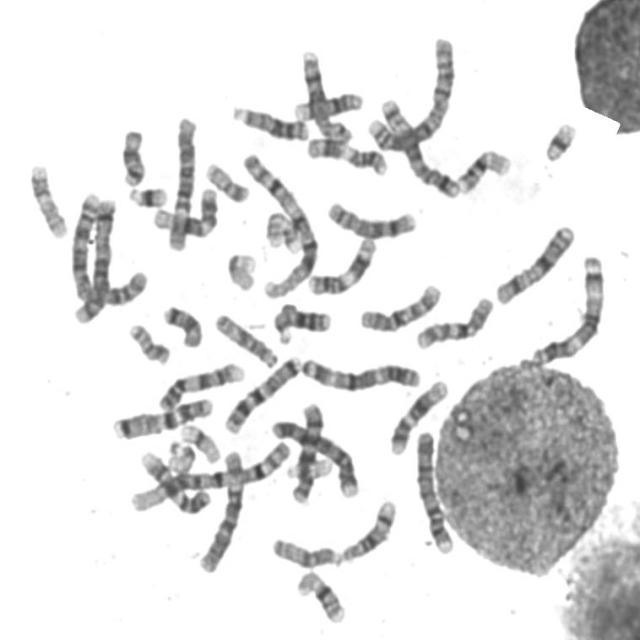A1: (124, 436, 296, 514), (237, 147, 323, 300)
A2: (362, 29, 458, 153), (64, 189, 150, 310)
A3: (525, 248, 608, 366), (296, 350, 423, 392)
B4: (267, 411, 362, 500), (410, 424, 456, 556)
B5: (373, 89, 461, 200), (68, 190, 118, 326)
C10: (411, 289, 496, 352), (354, 276, 444, 334)
C11: (302, 230, 379, 296), (301, 131, 391, 177)
C12: (384, 372, 452, 456), (150, 182, 220, 238)
C6: (193, 443, 246, 574), (162, 110, 200, 253)
C7: (220, 350, 303, 434), (108, 391, 215, 441)
C8: (296, 44, 354, 145), (321, 194, 418, 240)
C9: (134, 446, 212, 516), (152, 355, 247, 412)
D13: (226, 98, 311, 142), (268, 297, 334, 346)
D14: (336, 492, 399, 565), (287, 85, 366, 122)
D15: (210, 306, 280, 369), (267, 531, 343, 569)
E16: (290, 565, 348, 625), (452, 142, 513, 194)
E17: (24, 157, 69, 239), (260, 205, 302, 253)
E18: (157, 298, 204, 349), (116, 122, 148, 187)
F19: (175, 417, 223, 465), (221, 247, 259, 292)
F20: (199, 154, 251, 204), (124, 317, 172, 367)
G21: (539, 115, 578, 163), (123, 180, 170, 210)
G22: (160, 434, 198, 476), (284, 456, 337, 483)
X: (489, 218, 577, 307)
